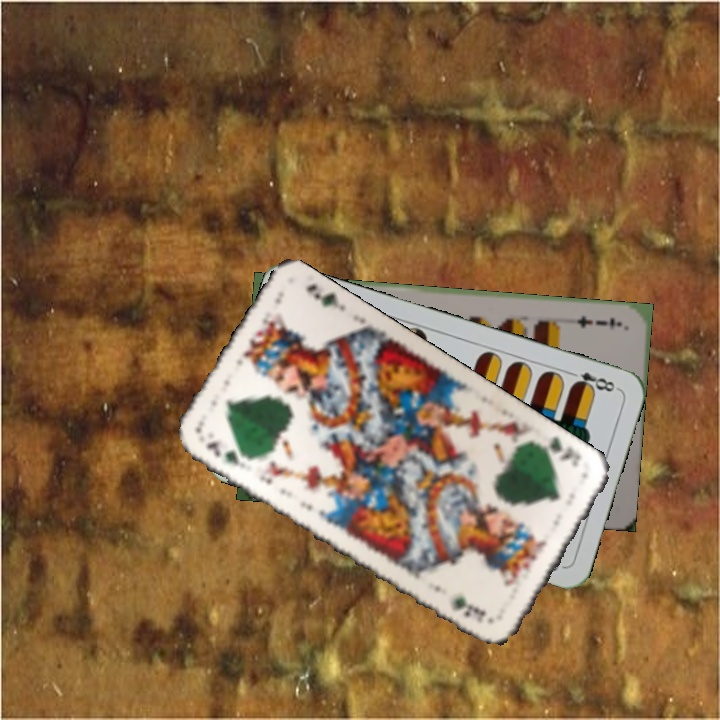E7: (572, 311, 624, 333)
E8: (563, 367, 621, 395)
GK: (535, 432, 585, 470), (202, 437, 251, 471)
